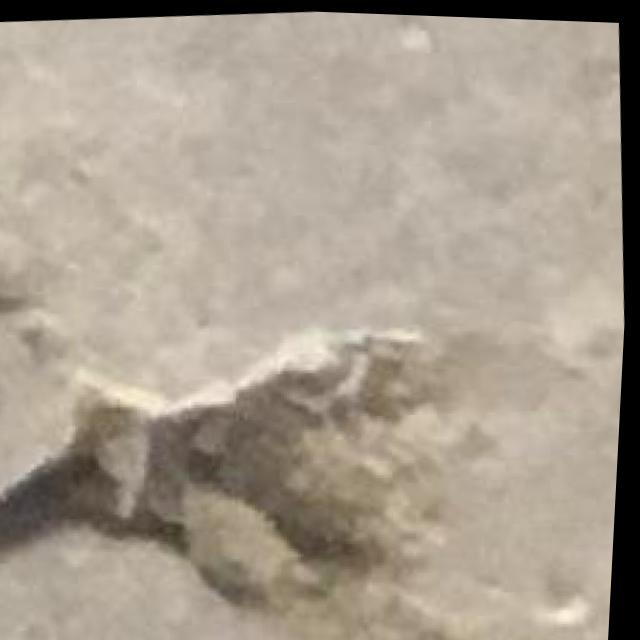Crack: (0, 275, 618, 640)
